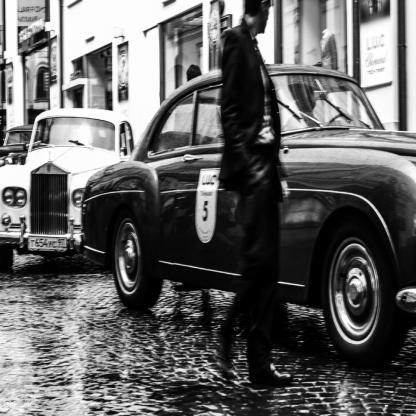Car: (82, 65, 416, 368), (1, 109, 135, 271)
